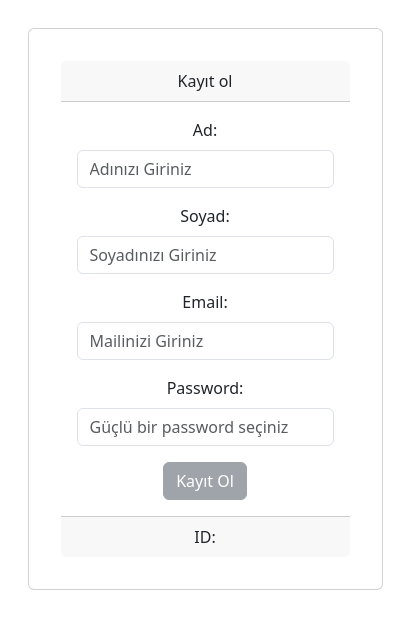
Test: hw-cı Page › Error Messages › name input thr0ws error for 2 chars
In the field with test id "ad-input": coordinates (206, 169) [77, 150, 334, 188], type "em"
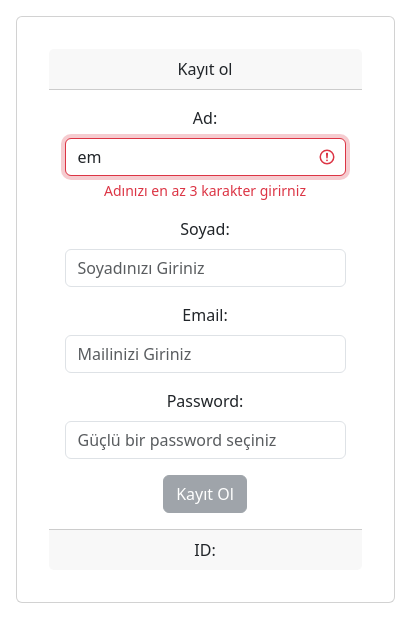
Check: the text "Adınızı en az 3 karakter girirniz" is shown, box [104, 180, 306, 200]
